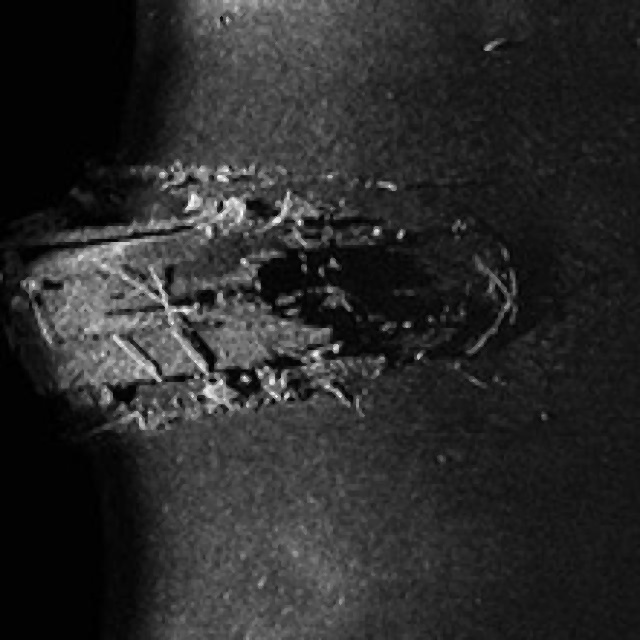Ship: (4, 137, 536, 453)
